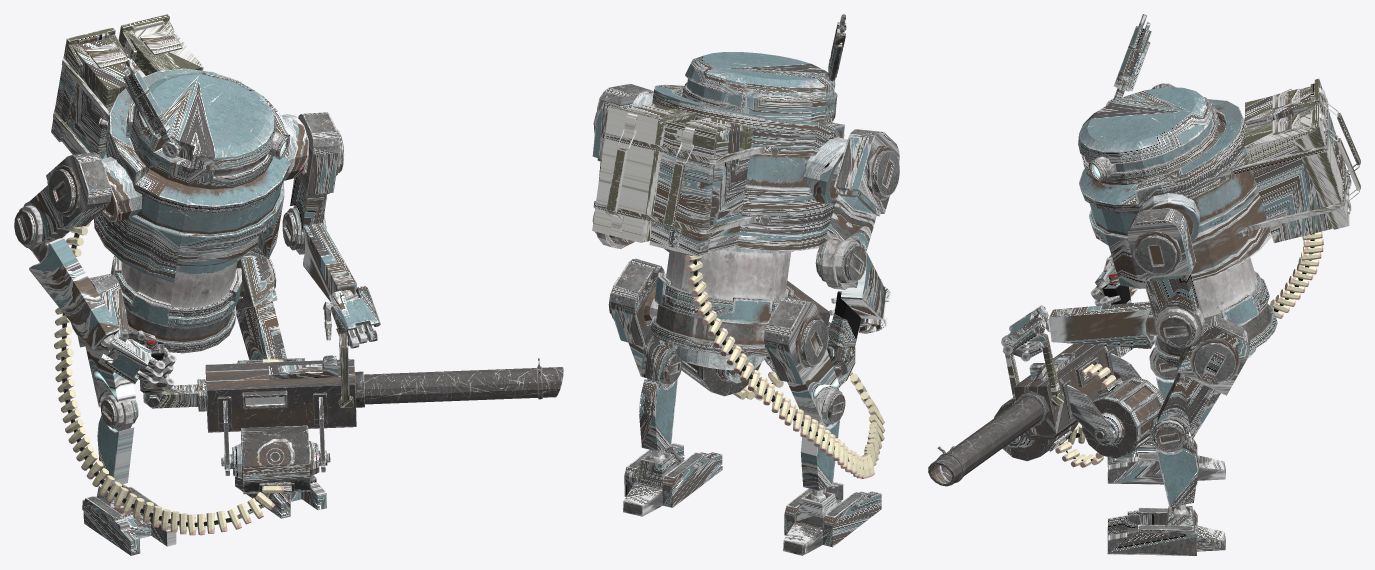
File: mecha.glb
The picture shows the model from 3 angles, left to right: view 1: azimuth 30°, elevation 25°; view 2: azimuth 150°, elevation 25°; view 3: azimuth 270°, elevation 25°; orthographic projection. The views are drawn at different scales.
Visible parts, largest first — view 1: polySurface1062_StingrayPBS1_0; view 2: polySurface1062_StingrayPBS1_0; view 3: polySurface1062_StingrayPBS1_0.
Boxes of the visible parts, x1,y1,x2,y2 form: polySurface1062_StingrayPBS1_0: [14, 14, 563, 555]; polySurface1062_StingrayPBS1_0: [592, 14, 899, 555]; polySurface1062_StingrayPBS1_0: [928, 14, 1360, 555].
Bounding box in the file's own units: 0.8539 × 1 × 0.8551.
Materials: 1 (1 with a texture image).
